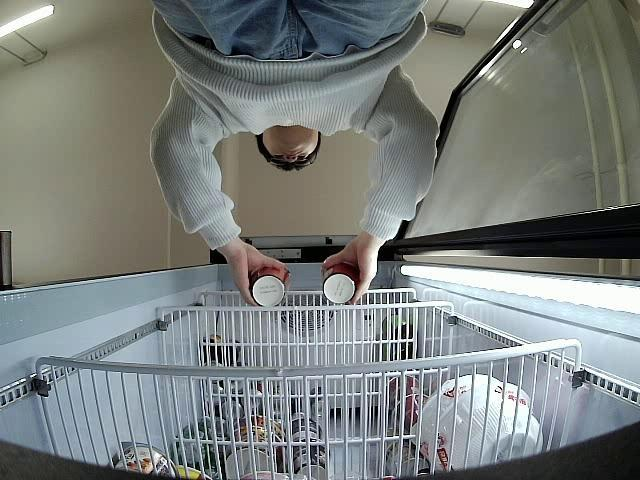02_shinRamen_S: (249, 266, 288, 308), (321, 260, 357, 303)
